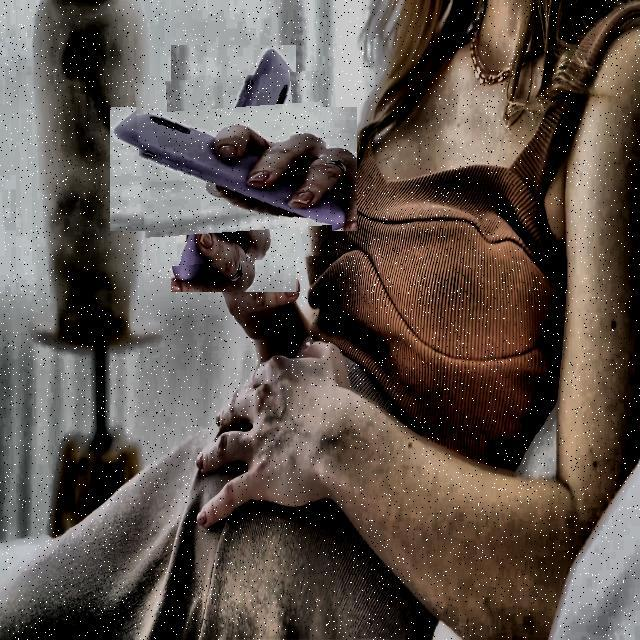Phone: (137, 73, 330, 264)
